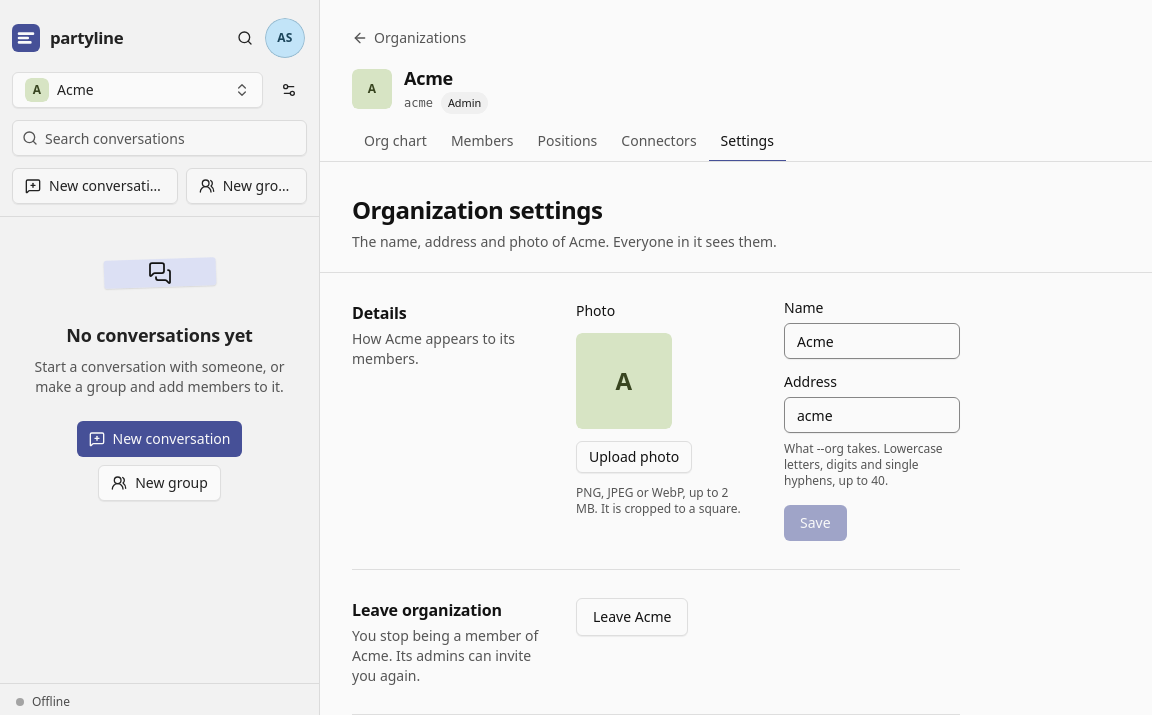
Test: renaming (OMEM-04) › refuses the address Acme Inc (a space) before asking the server
Replace the text in the field labelled "Address" with "Acme Inc": (872, 415) 784,397 -> 960,433
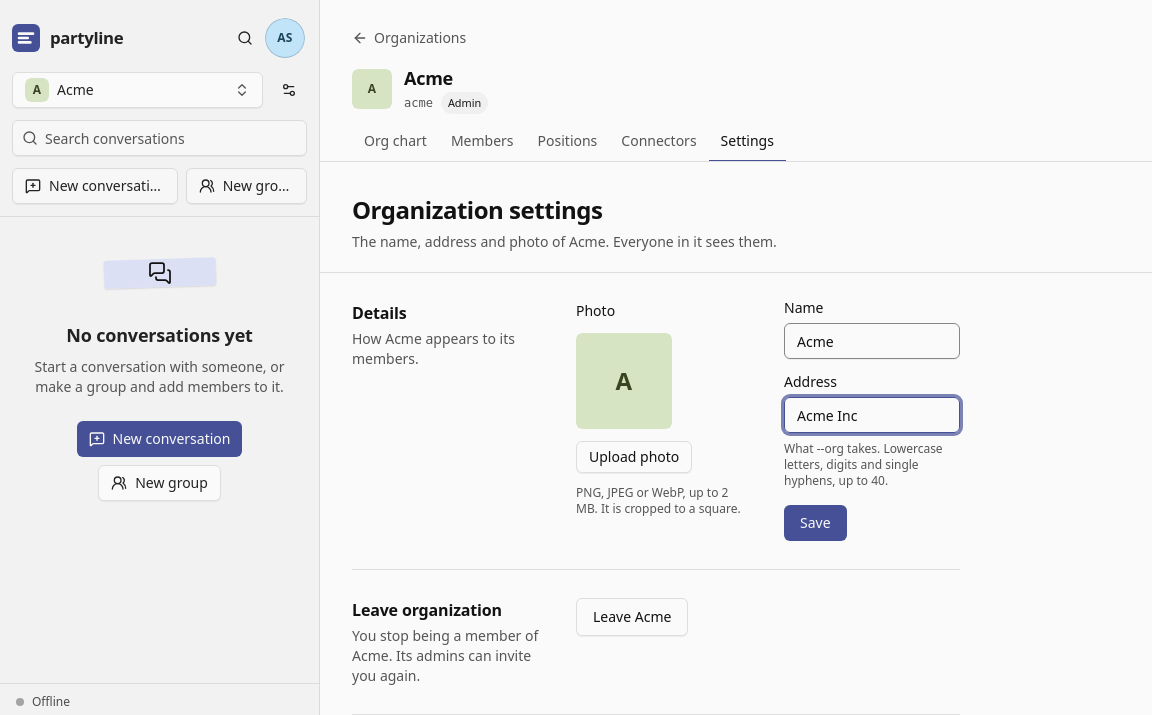
Click the button "Save": (815, 523) 784,505 -> 847,541
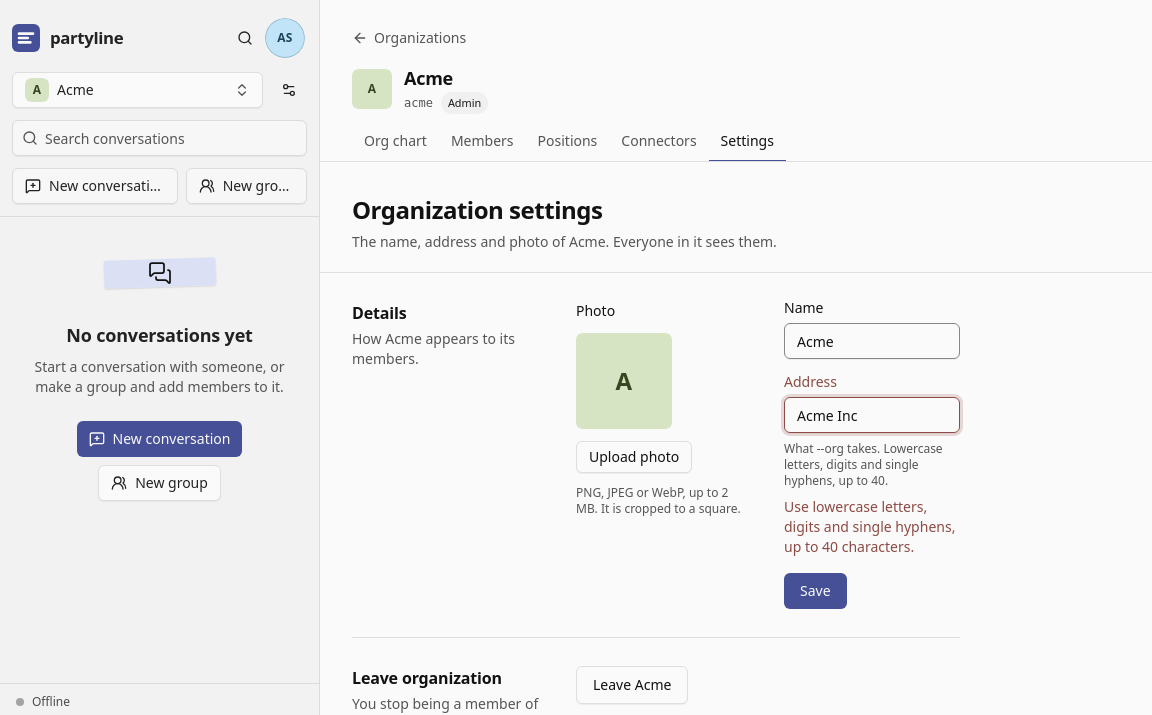
Check: the text "Use lowercase letters, digits and single hyphens, up to 40 characters." is shown, box 784,497 -> 960,557
